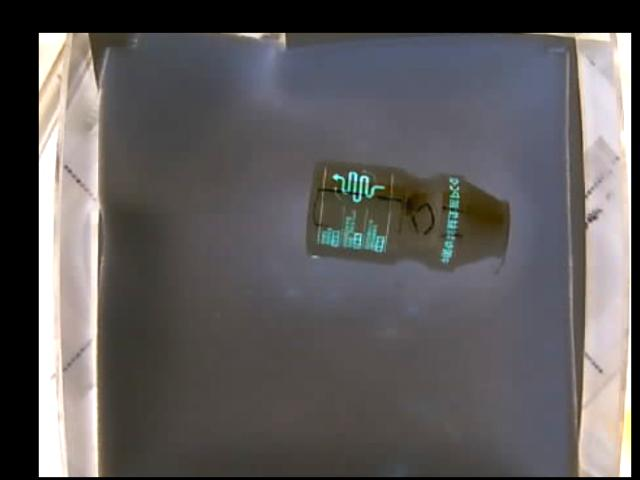Bottle: (308, 157, 510, 272)
